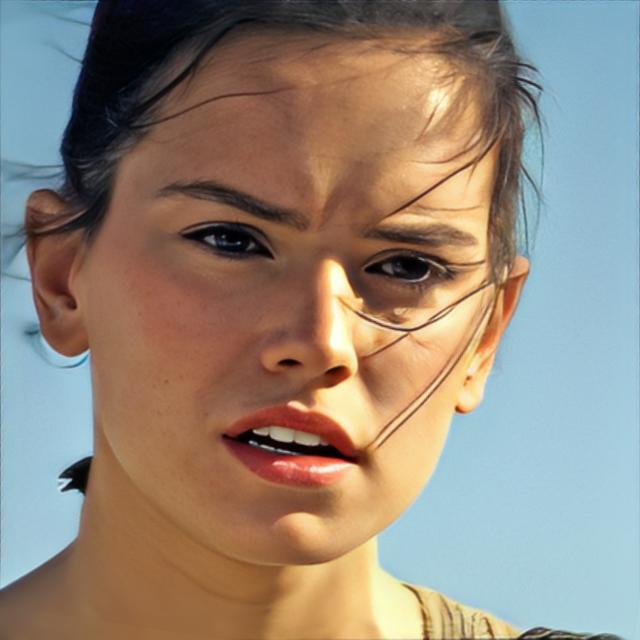disgust: (94, 21, 496, 570)
